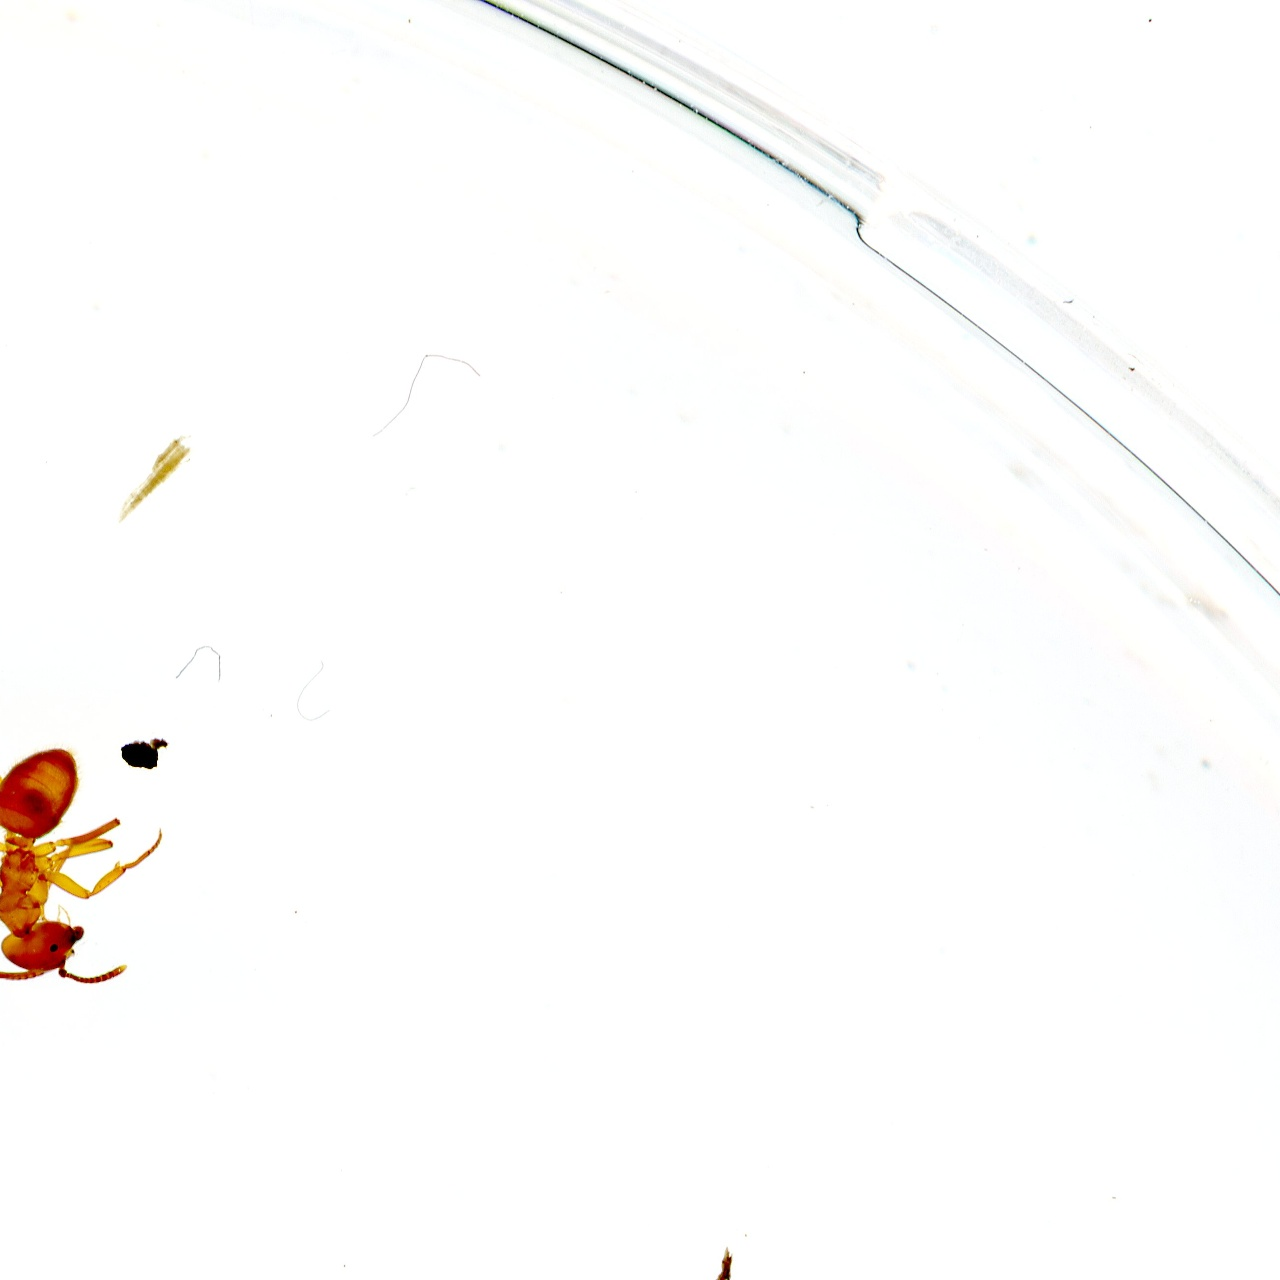arthropod: (0, 709, 175, 1005)
